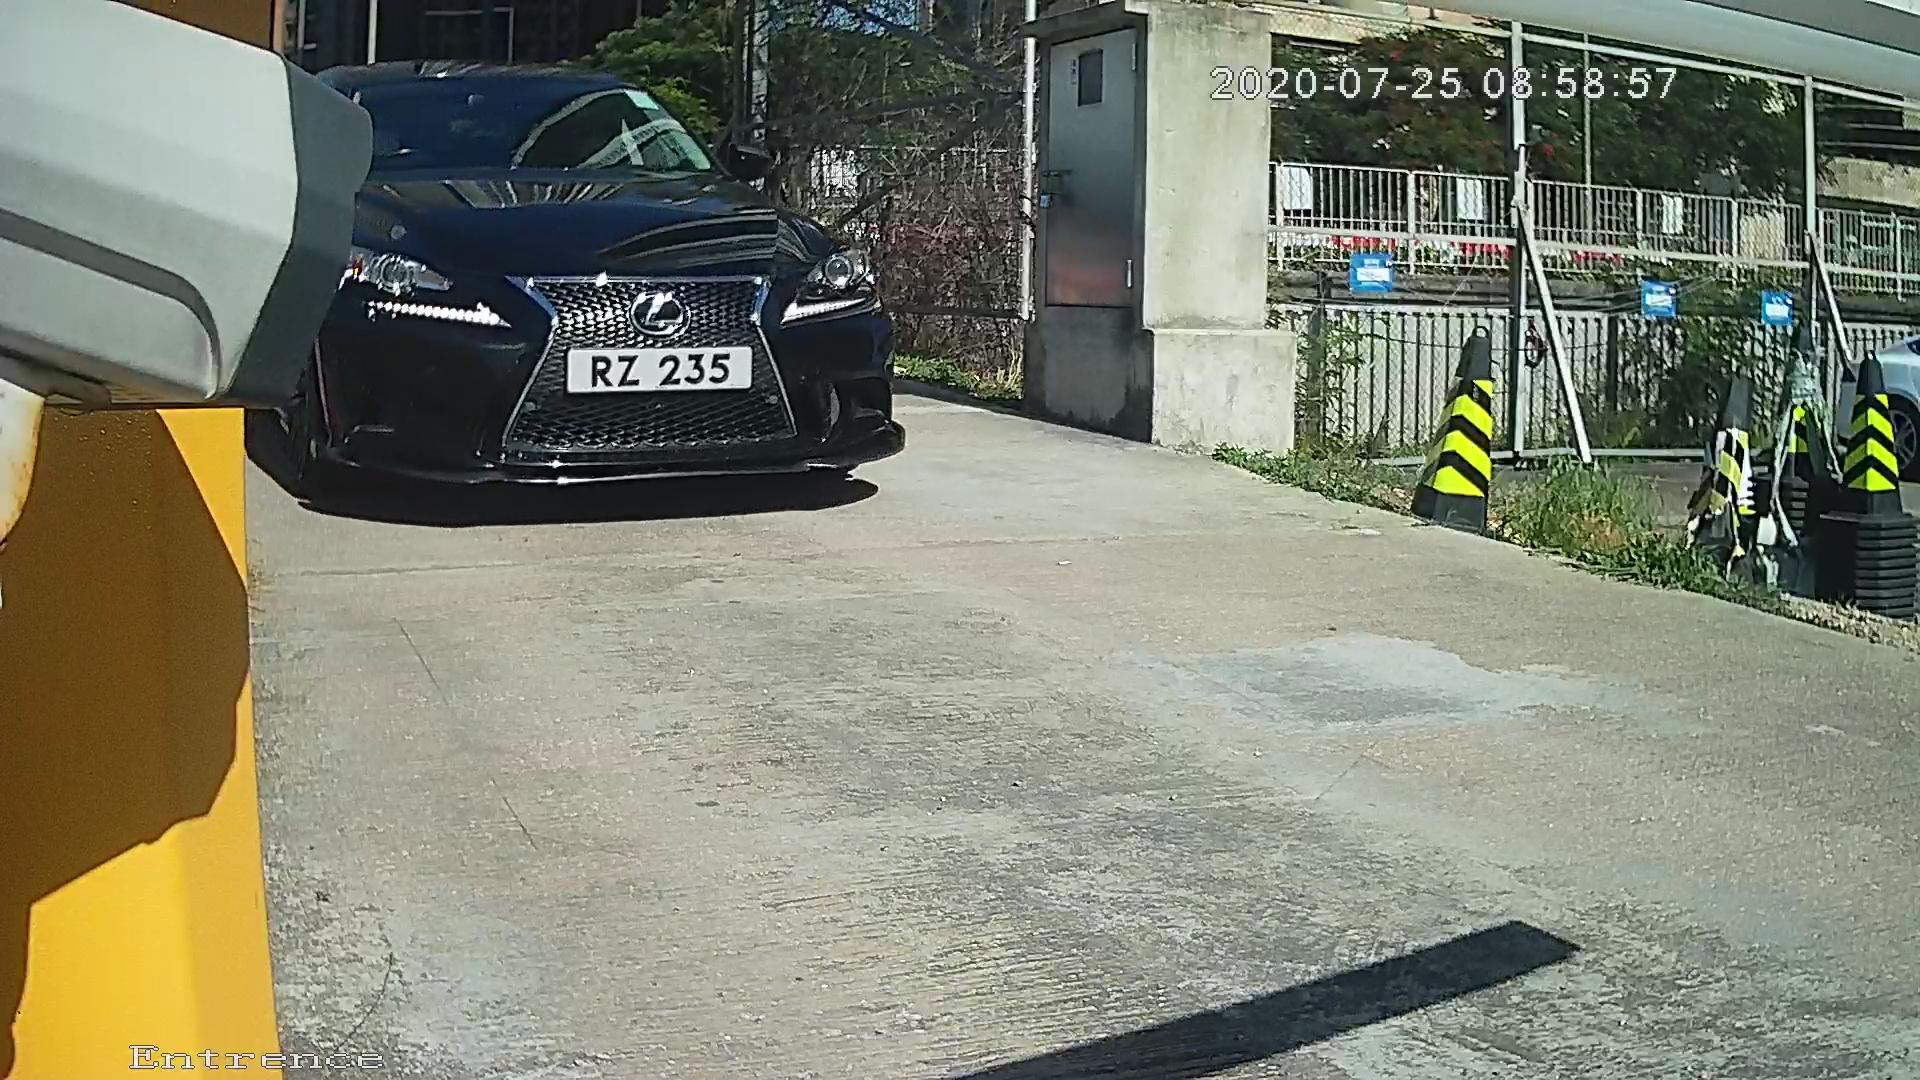License Plate: (523, 309, 772, 410)
